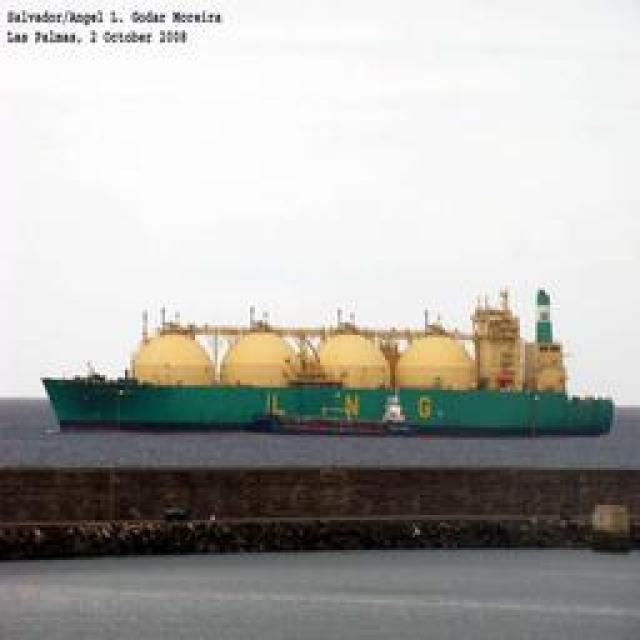ship2: (39, 287, 615, 439)
